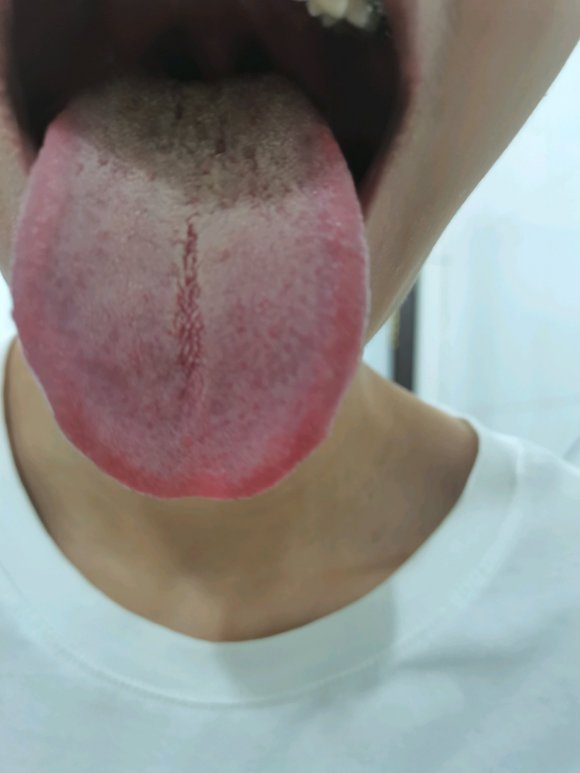baitaishe: (11, 71, 371, 498)
hongshe: (11, 71, 371, 498)
liewenshe: (178, 223, 205, 400)
